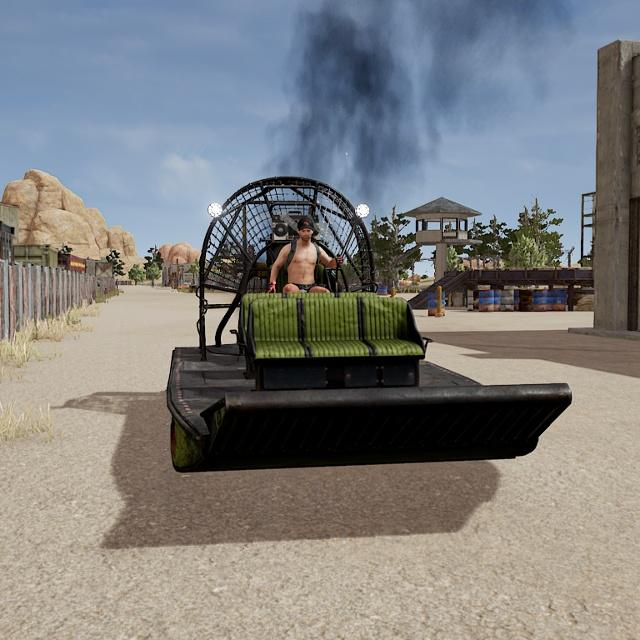head: (297, 216, 316, 243)
people: (267, 216, 342, 292)
